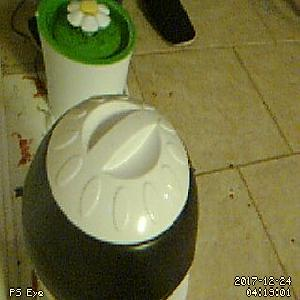fountain: (35, 1, 137, 66)
